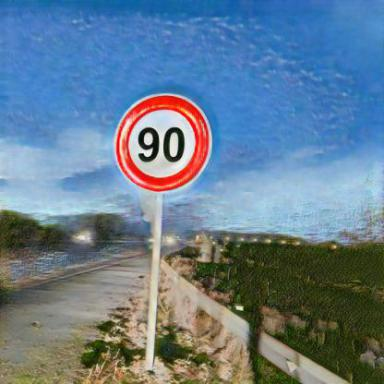Speed_limit_90: (117, 97, 209, 192)
